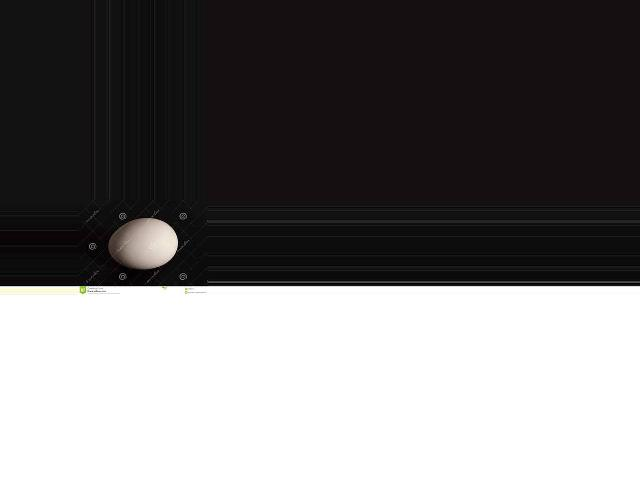egg: (108, 218, 178, 269)
